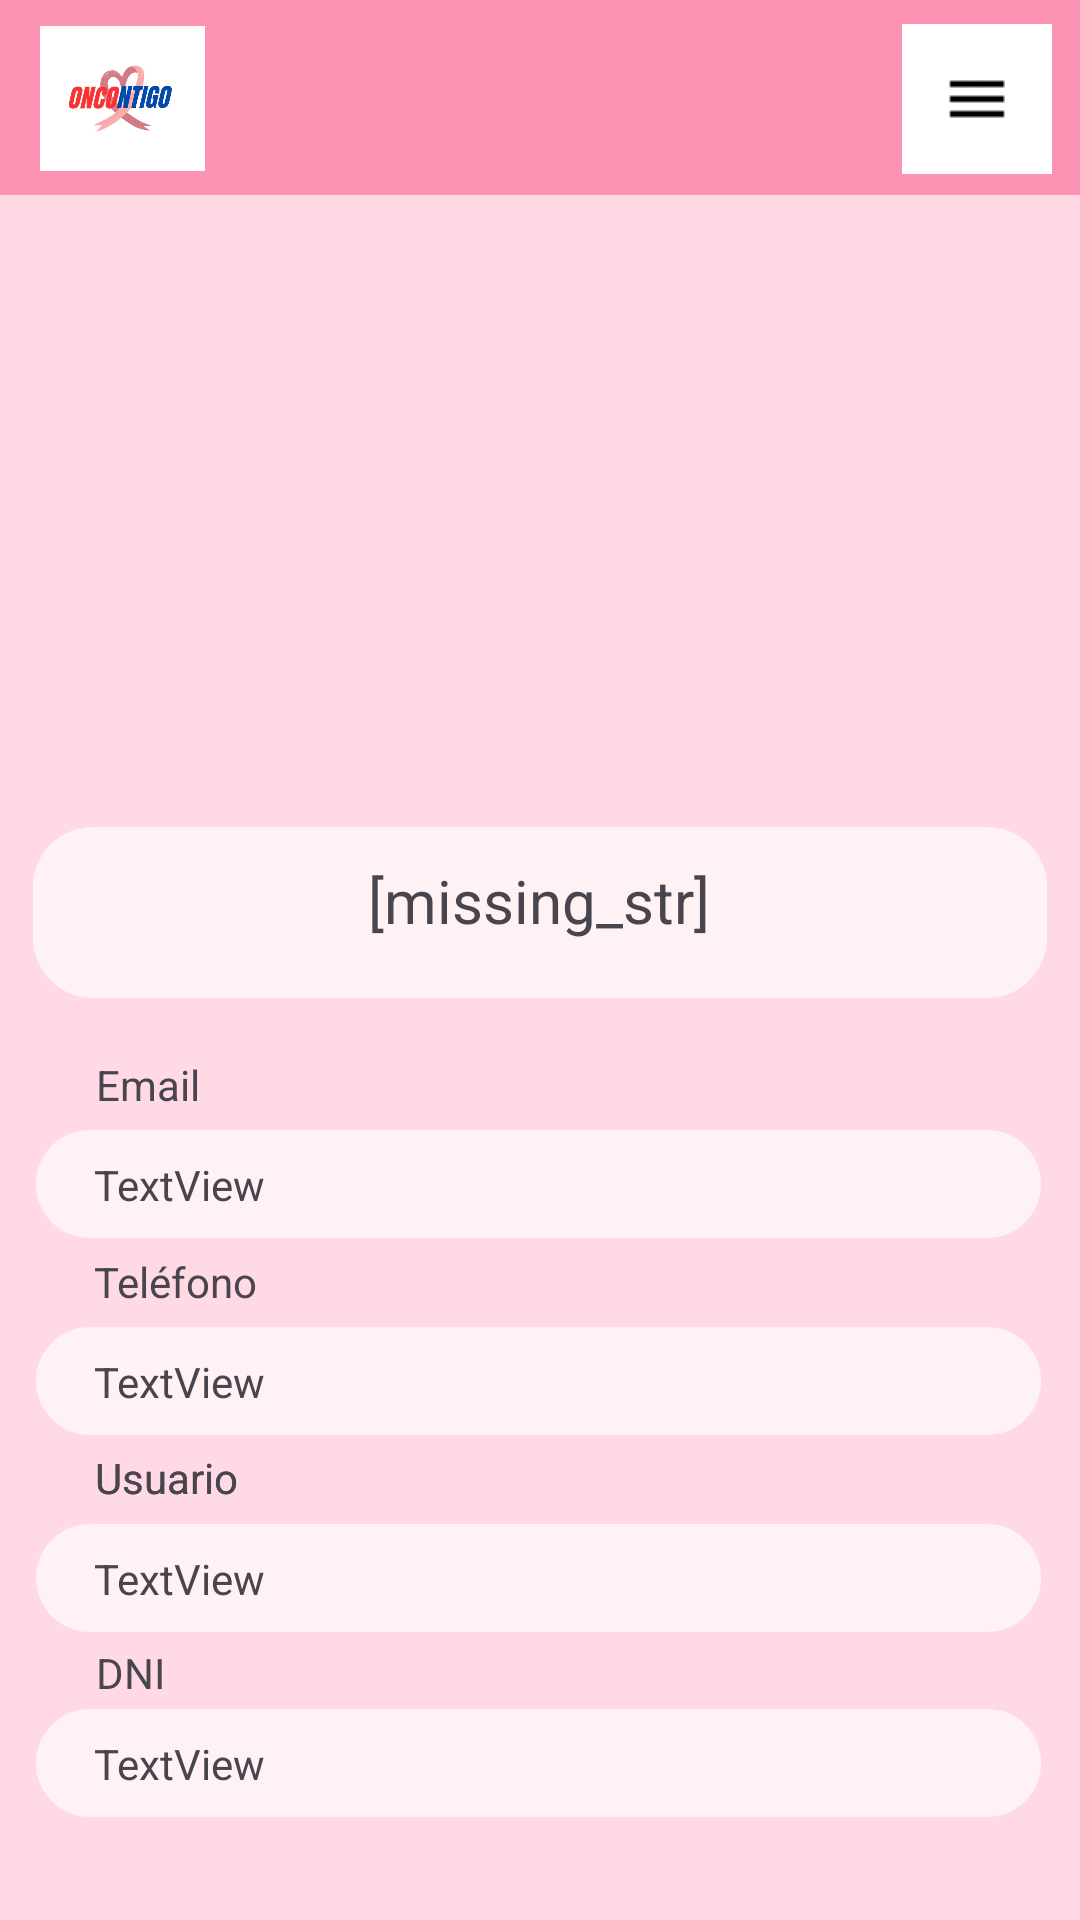

Locate icon controls on the screen. Image size 1080px x 1920px, boxes as [x1,y1,x2,y2].
menu: [902,24,1052,174]
